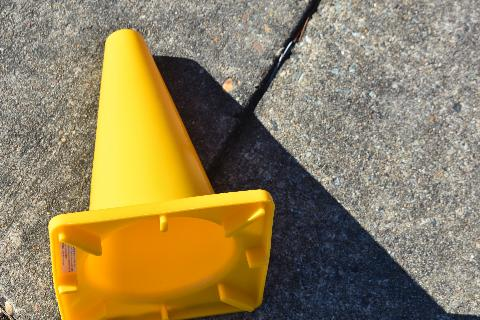cone: (47, 28, 277, 320)
